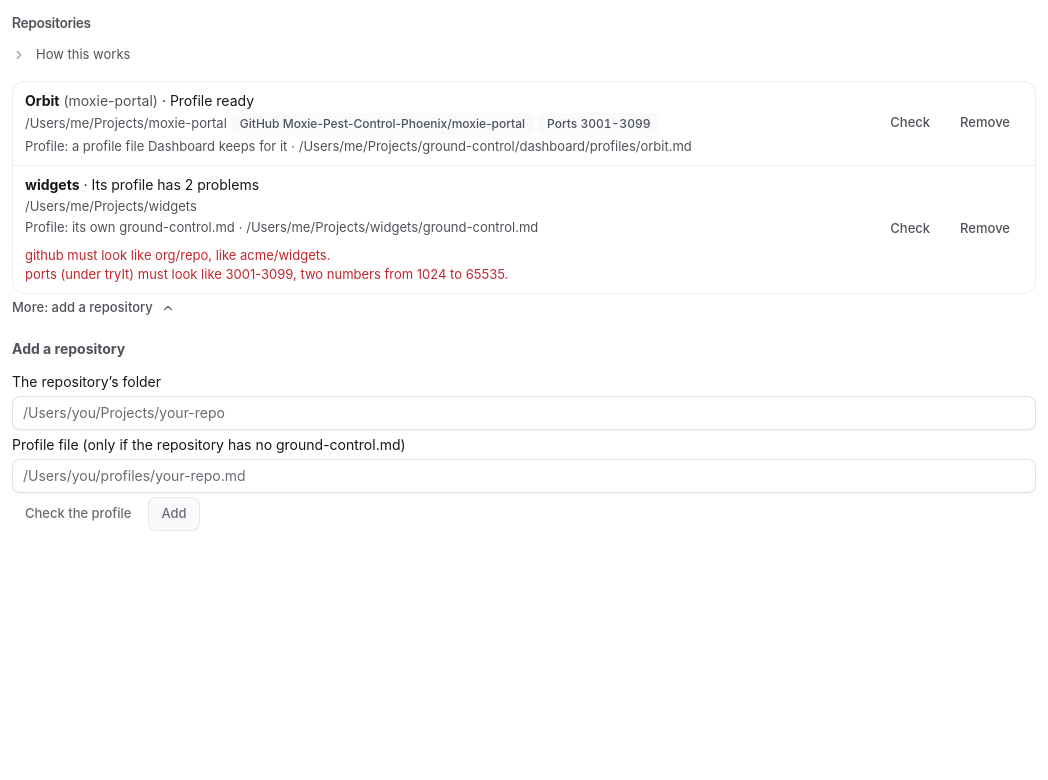
Test: Settings → Repos › Check reads a row’s profile again; Remove takes it off the list
This screenshot has width=1048, height=780.
Expected: the text "Orbit" is shown, [25,92,60,109]
Click the button with aria-label "Check Orbit’s profile".
click(910, 123)  # box [877,106,943,140]
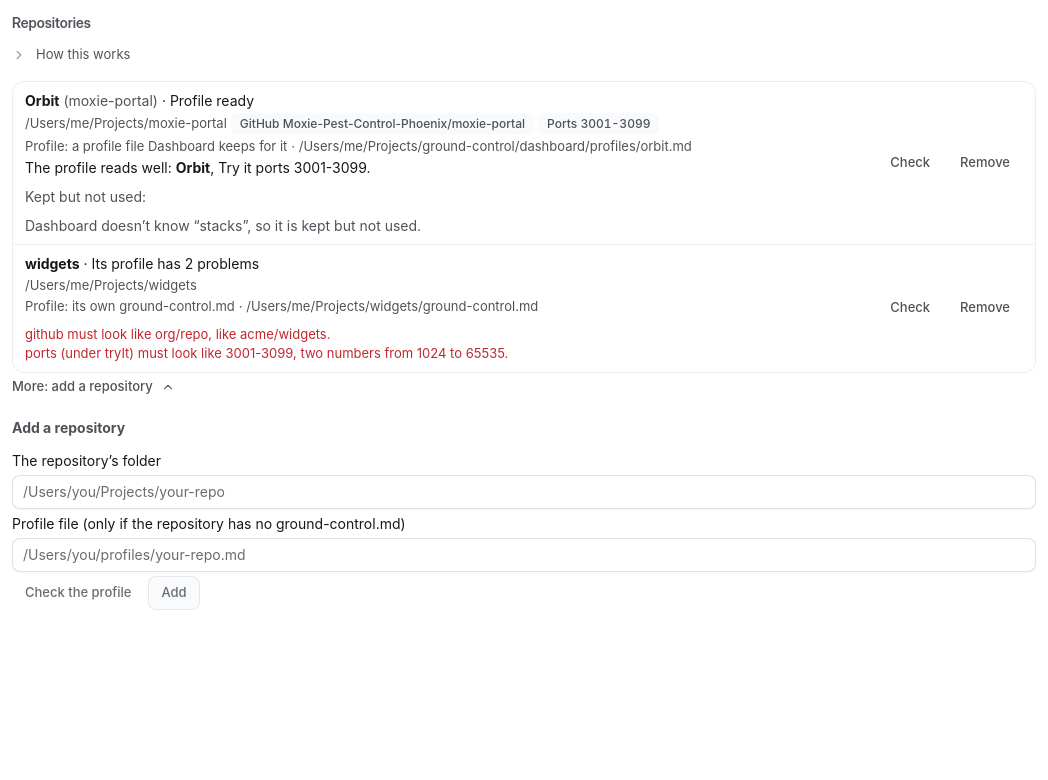
Now the text "The profile reads well: Orbit, Try it ports 3001-3099." is shown, box [25,158,371,176]
Now the list named "Notes about the profile" shows "so it is kept but not used", box [25,216,421,234]
Click the button with aria-label "Remove Orbit from the list".
click(985, 163)  # box [947,146,1023,180]
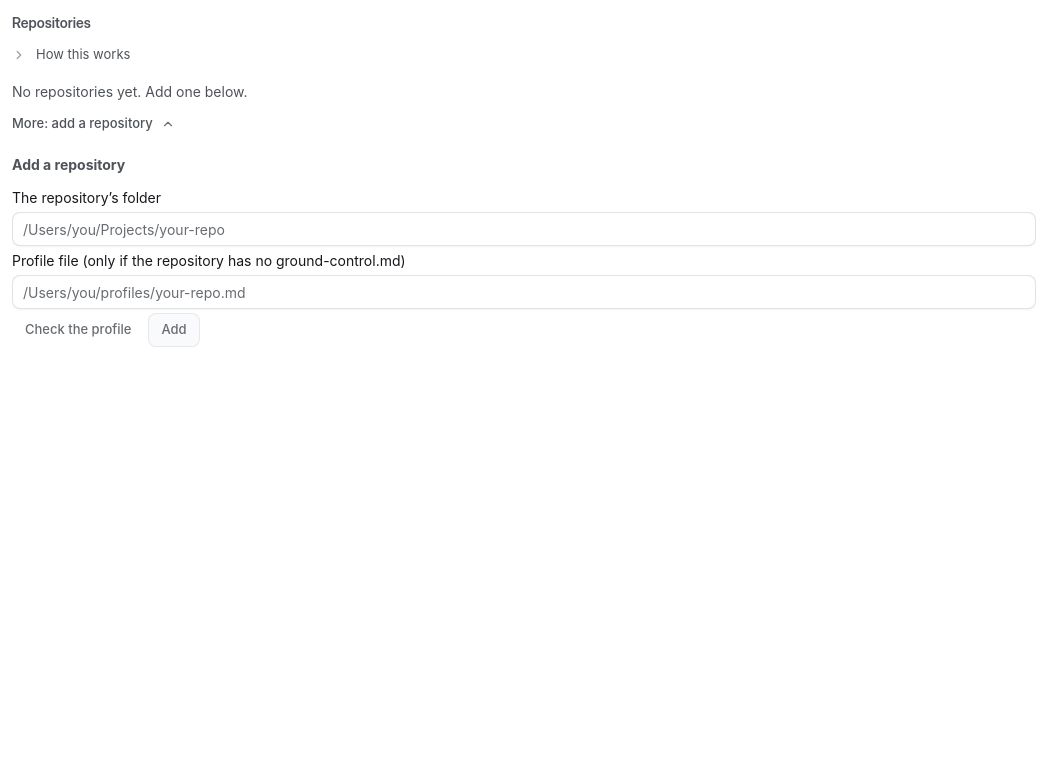
Now the text "No repositories yet. Add one below." is shown, box [12,83,248,100]
